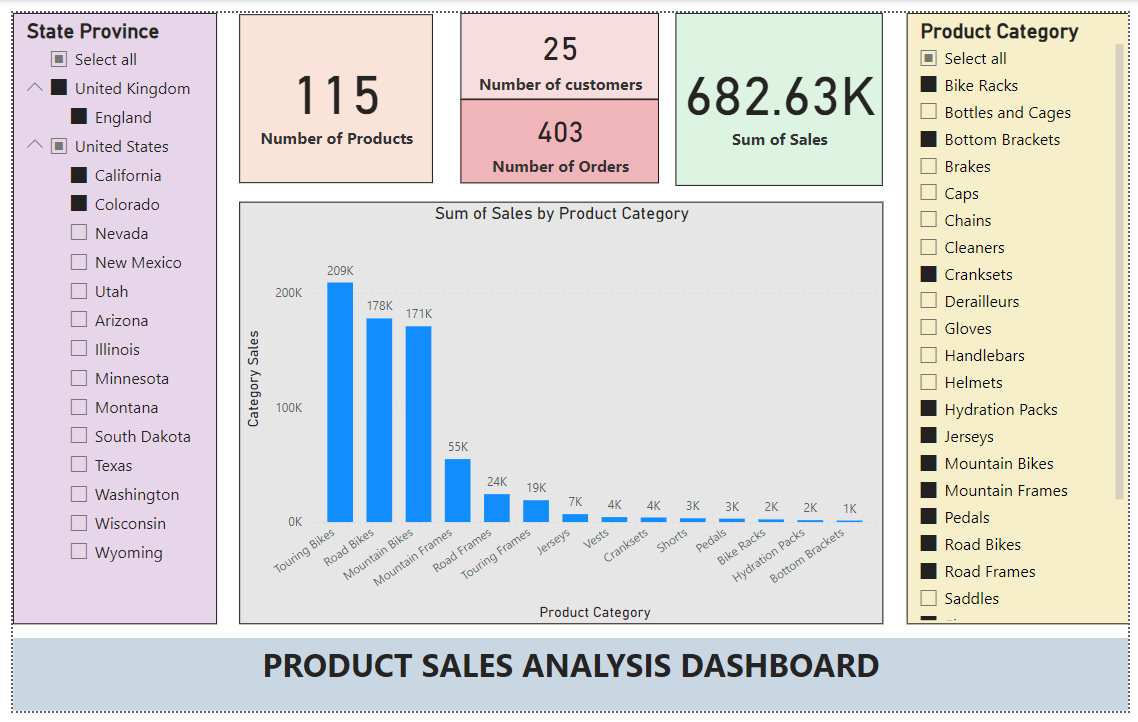

What the dashboard file says about the page in this screenshot:
{"tool":"powerbi","page":{"name":"Page 1","canvas":[1115,698],"ordinal":0},"visuals":[{"type":"card","fields":{"Values":["Count(Product.product_id)"]},"box":[226.2,1.2,193.8,168.8],"z":0},{"type":"card","title":"Total Sales","fields":{"Values":["Sum(SalesOrderDetail.line_total)"]},"box":[662.5,0,207.5,172.5],"z":1000},{"type":"slicer","fields":{"Values":["ProductCategory.name"]},"box":[893.7,0,222.5,611.2],"z":2000},{"type":"columnChart","title":"Sum of Sales by Product Category","fields":{"Category":["ProductCategory.name"],"Y":["Sum(SalesOrderDetail.line_total)"]},"box":[226.2,188.8,643.8,422.5],"z":3000},{"type":"card","fields":{"Values":["CountNonNull(SalesOrderDetail.sales_orderid)"]},"box":[447.5,86.2,198.8,83.8],"z":4000},{"type":"slicer","fields":{"Values":["Address.country_region","Address.state_province"]},"box":[0,0,203.8,611.2],"z":5000},{"type":"textbox","box":[0,625,1116.2,72.5],"z":6000},{"type":"card","fields":{"Values":["CountNonNull(Customer.customer_id)"]},"box":[447.5,0,198.8,86.2],"z":7000}]}

Visuals, with their boxes in screenshot pixels (x1, y1, x2, y2), scaled from the page's 1115x698 canvas onto the 1138x722 screenshot:
card - Count(Product.product_id): left=231, top=1, right=429, bottom=176
"Total Sales" card: left=676, top=0, right=888, bottom=178
slicer - ProductCategory.name: left=912, top=0, right=1137, bottom=632
"Sum of Sales by Product Category" columnChart: left=231, top=195, right=888, bottom=632
card - CountNonNull(SalesOrderDetail.sales_orderid): left=457, top=89, right=660, bottom=176
slicer - Address.country_region x Address.state_province: left=0, top=0, right=208, bottom=632
textbox: left=0, top=646, right=1137, bottom=721
card - CountNonNull(Customer.customer_id): left=457, top=0, right=660, bottom=89
